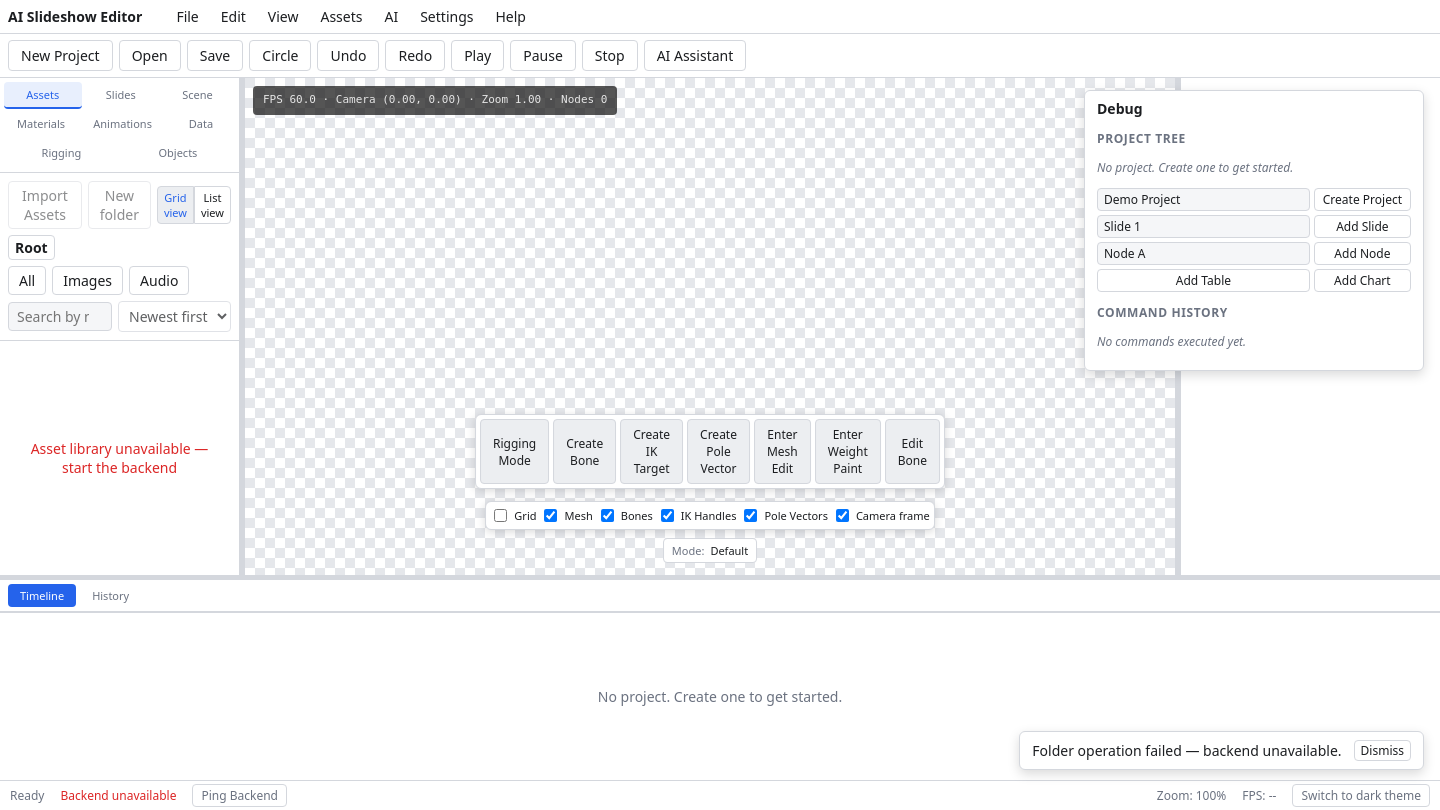
editor shell › switches the theme, updates the data-theme attribute, and persists the choice
What coordinates should you click on to do the following:
click the button "Switch to dark theme"
I would click on:
 (1361, 796)
Its box is left=1292, top=784, right=1430, bottom=807.
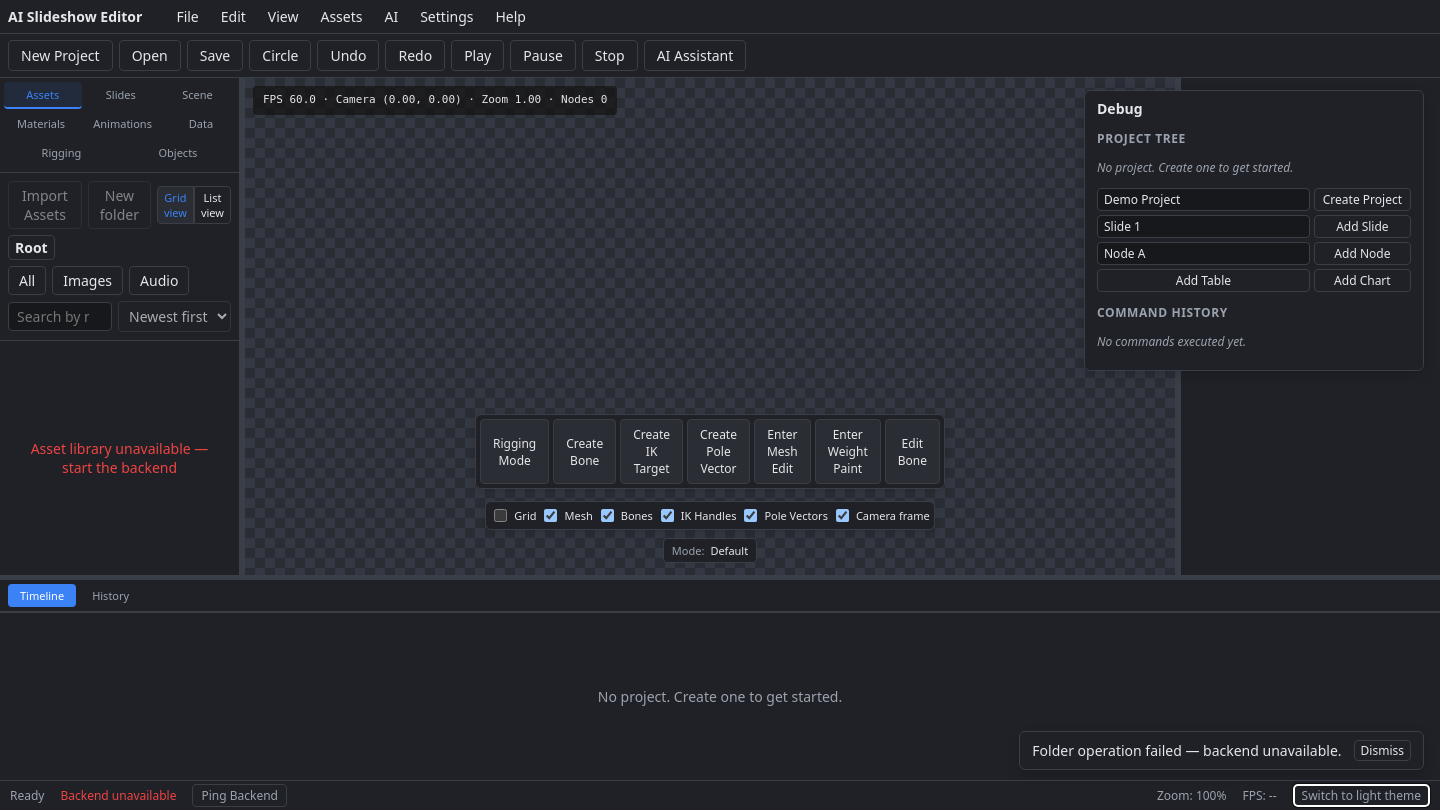
Expected: the button "Switch to light theme" is shown, left=1293, top=784, right=1430, bottom=807
